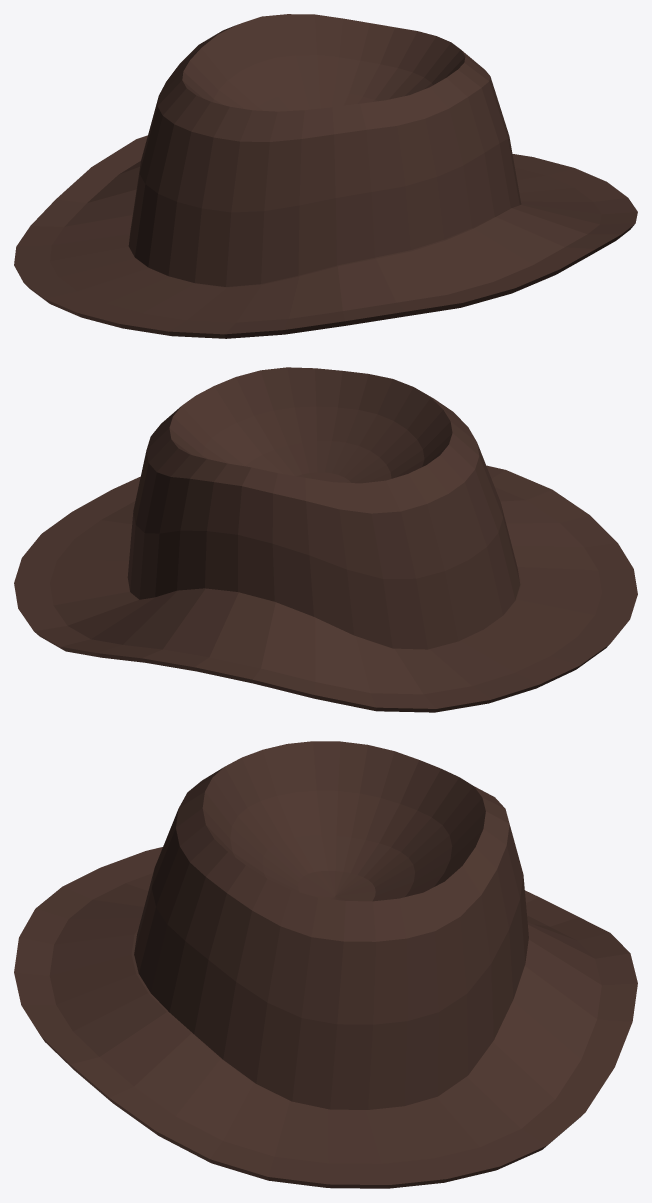
Rendered from Hat.fbx.
3 renders of one model, top to bottom at view 1: azimuth 30°, elevation 25°; view 2: azimuth 150°, elevation 25°; view 3: azimuth 270°, elevation 25°, orthographic. The views are drawn at different scales.
Parts seen in each view (by area): view 1: Sphere; view 2: Sphere; view 3: Sphere.
Part boxes in pixels (bbox=[...]): Sphere: bbox=[14, 14, 637, 338]; Sphere: bbox=[14, 367, 637, 712]; Sphere: bbox=[14, 741, 637, 1188].
Size of the model in its own units: 238 by 82.07 by 194.
